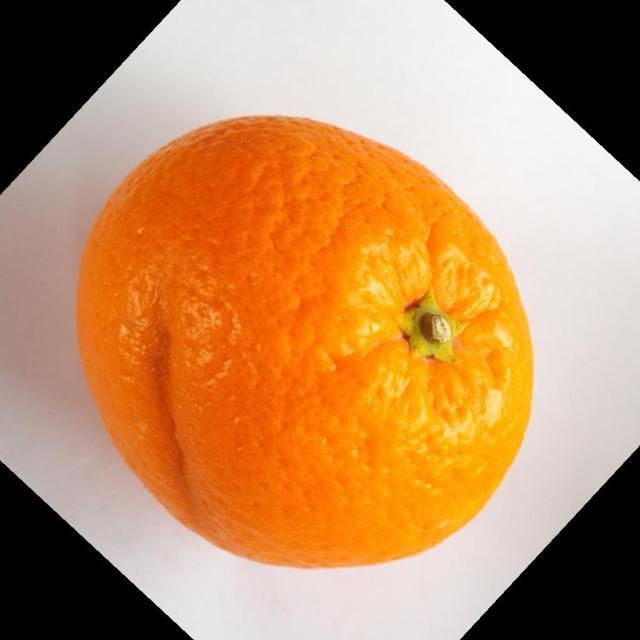agrume: (74, 112, 534, 570)
